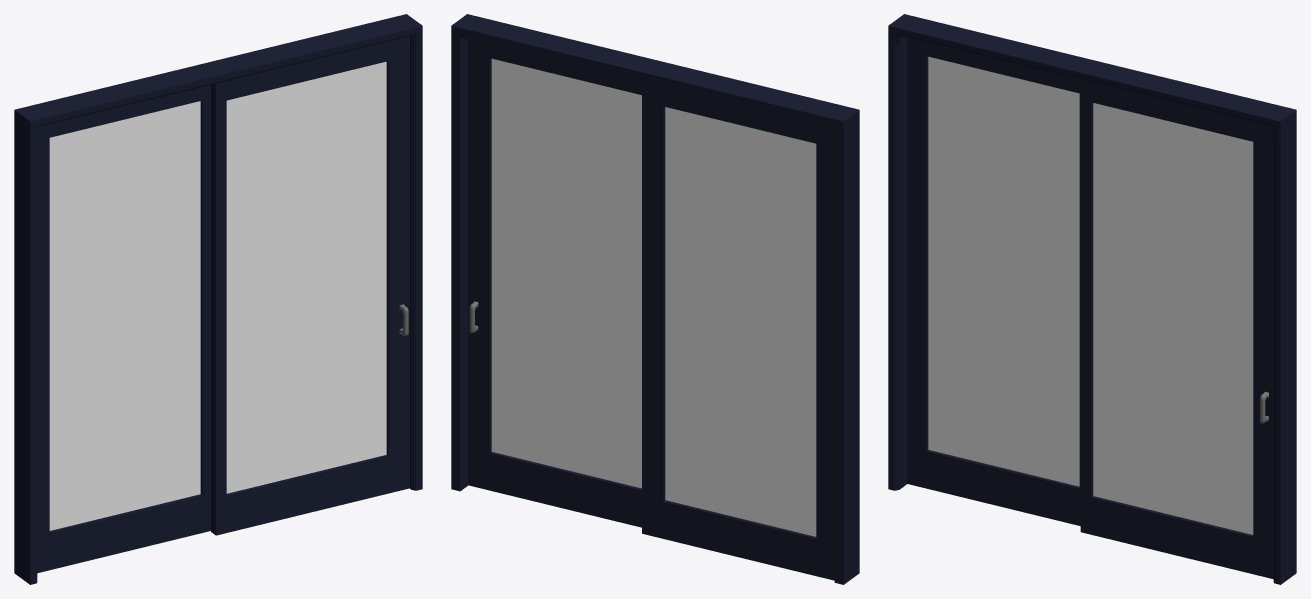
File: sliding_door.glb
3 views of the same model, side by side, from view 1: azimuth 30°, elevation 25°; view 2: azimuth 150°, elevation 25°; view 3: azimuth 330°, elevation 25° (orthographic).
Visible parts, largest first — view 1: 16668_84x96_Slider_Door-Black_V1_1, 16668_84x96_Slider_Door-Black_V1.001_0; view 2: 16668_84x96_Slider_Door-Black_V1_1, 16668_84x96_Slider_Door-Black_V1.001_0; view 3: 16668_84x96_Slider_Door-Black_V1_1, 16668_84x96_Slider_Door-Black_V1.001_0.
Boxes of the visible parts, box(x1,y1,x2,y2) form: 16668_84x96_Slider_Door-Black_V1_1: box(14, 14, 422, 584); 16668_84x96_Slider_Door-Black_V1.001_0: box(211, 36, 409, 535); 16668_84x96_Slider_Door-Black_V1_1: box(451, 14, 859, 584); 16668_84x96_Slider_Door-Black_V1.001_0: box(468, 39, 641, 527); 16668_84x96_Slider_Door-Black_V1_1: box(888, 14, 1296, 584); 16668_84x96_Slider_Door-Black_V1.001_0: box(1080, 80, 1273, 579).
Bounding box in the file's own units: 1.95 × 2.2 × 0.1549.
